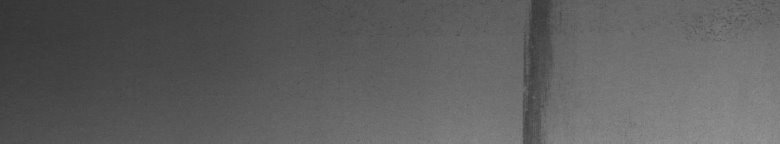hd: (516, 4, 547, 136)
